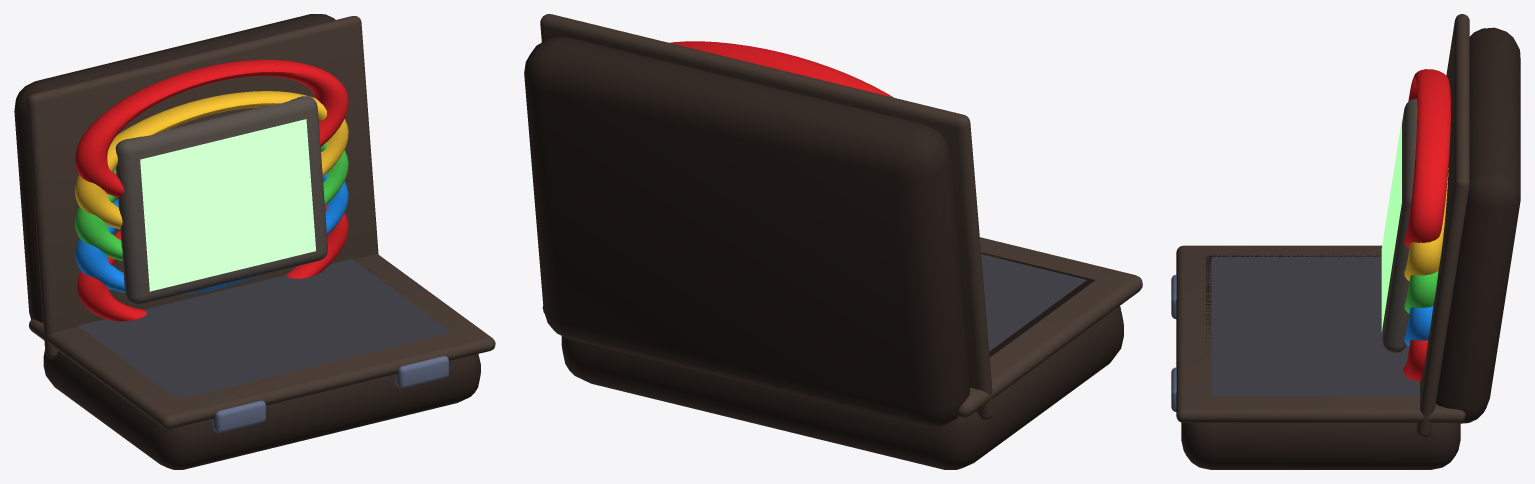
File: bomba3.glb
3 renders of one model, left to right at view 1: azimuth 30°, elevation 25°; view 2: azimuth 150°, elevation 25°; view 3: azimuth 270°, elevation 25°, orthographic. The views are drawn at different scales.
Parts seen in each view (by area): view 1: bomba_tampa_aro, painel, lcd, bomba_base, bomba_base_aro, bomba_tela_moldura, bomba_anel0, bomba_tampa, bomba_anel1, bomba_anel4, bomba_anel3, bomba_anel2 (+2 smaller); view 2: bomba_tampa, bomba_base, bomba_tampa_aro, bomba_base_aro, painel, bomba_anel0, bomba_base_fundo; view 3: painel, bomba_tampa, bomba_base_aro, bomba_base, bomba_tampa_aro, bomba_anel0, bomba_tela_moldura, lcd, bomba_anel1, bomba_anel2, bomba_anel3, bomba_anel4 (+1 smaller).
Boxes of the visible parts, x1=… form: bomba_tampa_aro: x1=27, y1=16, x2=378, y2=358; painel: x1=78, y1=259, x2=451, y2=399; lcd: x1=140, y1=119, x2=315, y2=291; bomba_base: x1=43, y1=350, x2=480, y2=469; bomba_base_aro: x1=29, y1=254, x2=495, y2=429; bomba_tela_moldura: x1=115, y1=96, x2=327, y2=304; bomba_anel0: x1=75, y1=59, x2=348, y2=197; bomba_tampa: x1=14, y1=14, x2=335, y2=322; bomba_anel1: x1=75, y1=91, x2=348, y2=228; bomba_anel4: x1=77, y1=205, x2=348, y2=321; bomba_anel3: x1=75, y1=173, x2=348, y2=294; bomba_anel2: x1=75, y1=142, x2=348, y2=260; bomba_tampa: x1=524, y1=37, x2=969, y2=426; bomba_base: x1=561, y1=306, x2=1123, y2=469; bomba_tampa_aro: x1=540, y1=14, x2=993, y2=420; bomba_base_aro: x1=542, y1=237, x2=1142, y2=417; painel: x1=981, y1=254, x2=1086, y2=351; bomba_anel0: x1=669, y1=41, x2=893, y2=97; bomba_base_fundo: x1=981, y1=252, x2=1095, y2=357; painel: x1=1211, y1=257, x2=1419, y2=396; bomba_tampa: x1=1436, y1=27, x2=1520, y2=423; bomba_base_aro: x1=1176, y1=245, x2=1465, y2=422; bomba_base: x1=1181, y1=422, x2=1460, y2=469; bomba_tampa_aro: x1=1416, y1=14, x2=1469, y2=437; bomba_anel0: x1=1404, y1=69, x2=1450, y2=248; bomba_tela_moldura: x1=1382, y1=98, x2=1417, y2=352; lcd: x1=1381, y1=119, x2=1401, y2=332; bomba_anel1: x1=1404, y1=108, x2=1448, y2=280; bomba_anel2: x1=1404, y1=270, x2=1438, y2=313; bomba_anel3: x1=1404, y1=306, x2=1433, y2=346; bomba_anel4: x1=1403, y1=340, x2=1427, y2=381.
Size of the model in its own units: 0.8 by 0.6672 by 0.7002.
